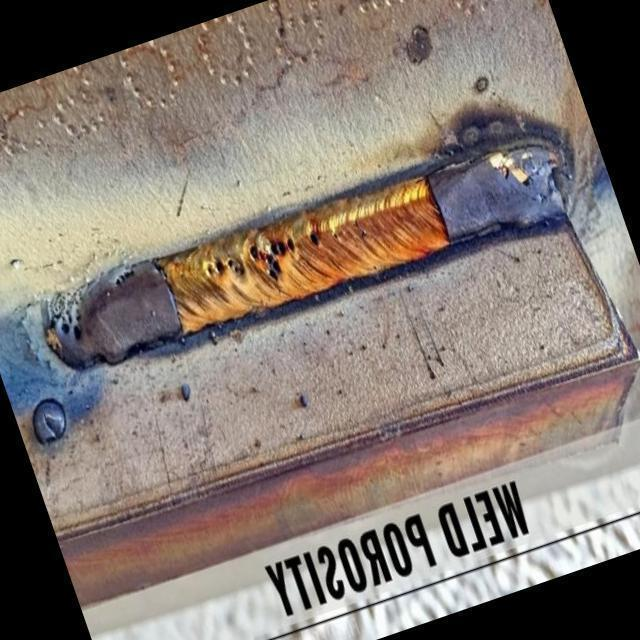defect: (245, 233, 299, 289), (49, 279, 91, 343), (204, 256, 244, 278), (113, 267, 136, 288), (351, 217, 368, 238), (309, 228, 322, 251), (329, 227, 340, 240)
